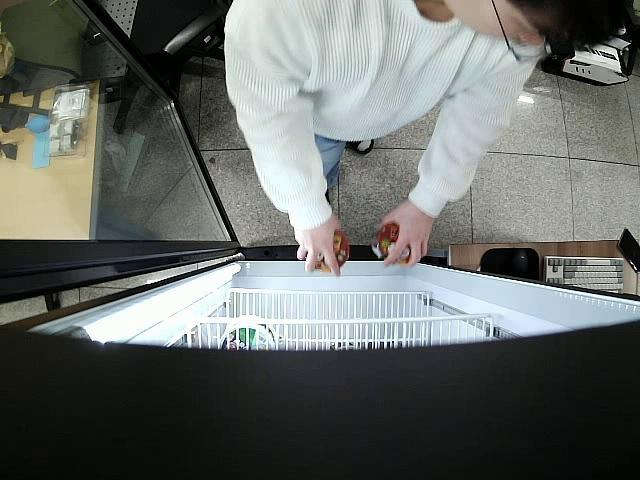06_nuguri_S: (372, 222, 411, 266), (314, 231, 348, 273)
